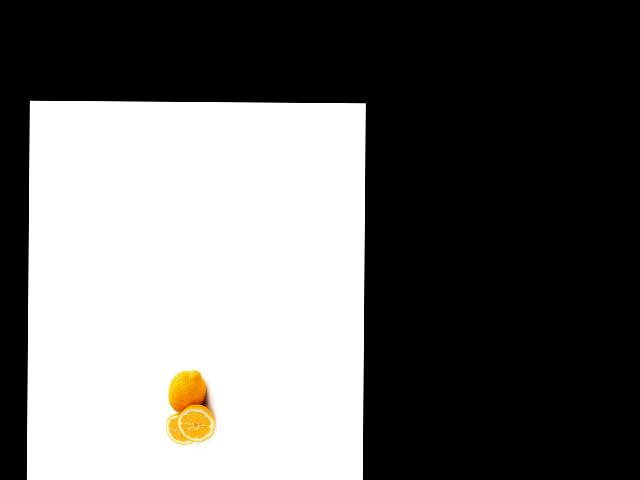lemon: (166, 367, 207, 413)
